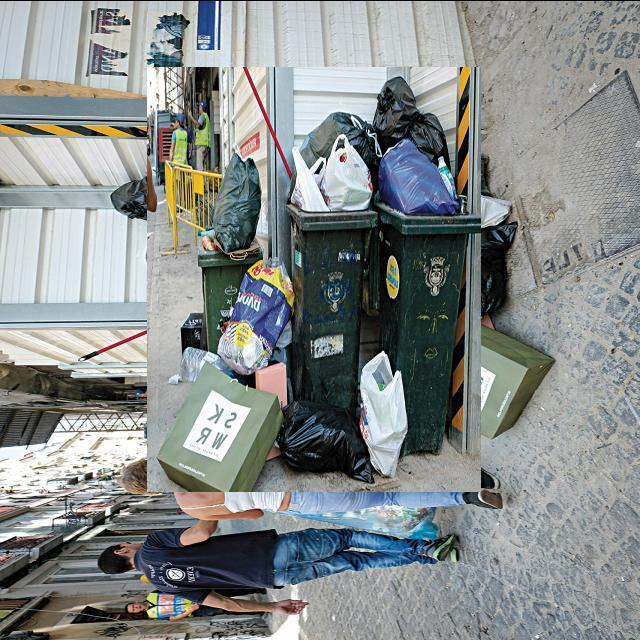Trashbag: (278, 402, 376, 486), (202, 149, 267, 254), (300, 106, 380, 165), (372, 72, 415, 148), (412, 108, 447, 163)
